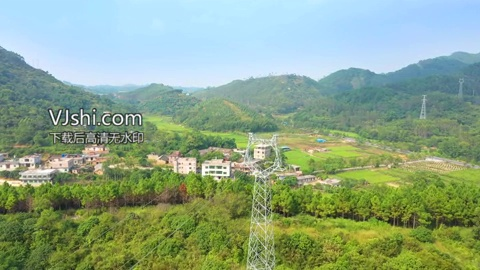tower_body: (236, 127, 290, 270)
tower_foot: (245, 238, 276, 269)
tower_head: (240, 130, 285, 175)
